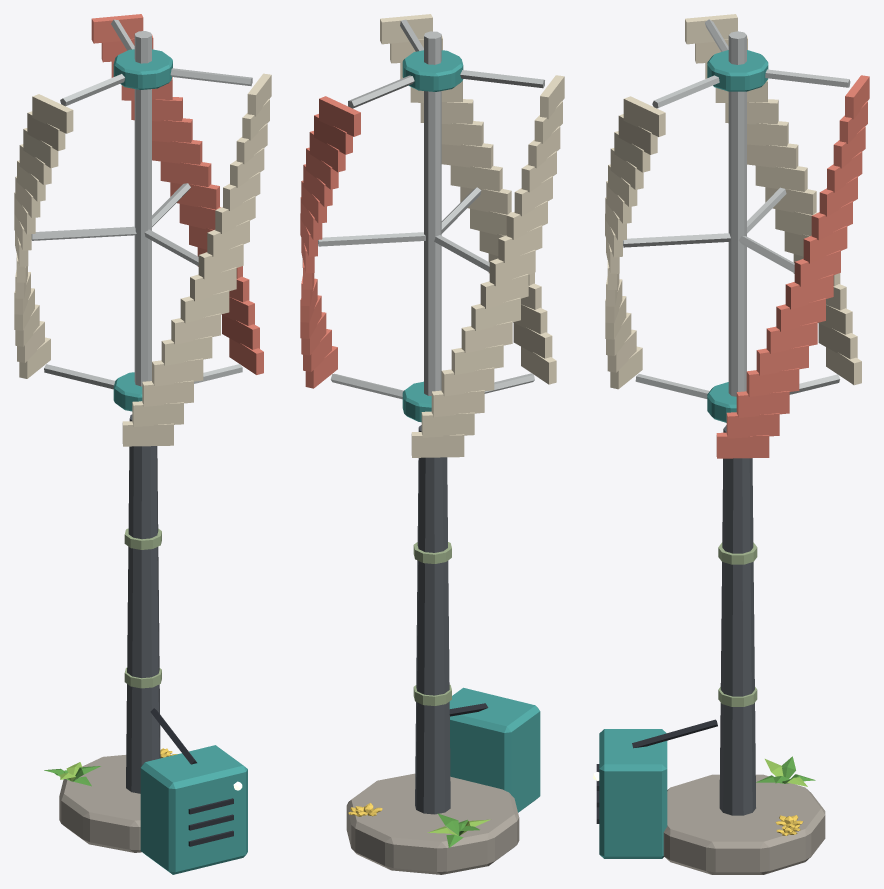
File: vertical_wind_turbine.glb
The picture shows the model from 3 angles, left to right: view 1: azimuth 30°, elevation 25°; view 2: azimuth 150°, elevation 25°; view 3: azimuth 270°, elevation 25°; orthographic projection. The views are drawn at different scales.
Parts seen in each view (by area): view 1: Vertical Wind Turbine; view 2: Vertical Wind Turbine; view 3: Vertical Wind Turbine.
Boxes of the visible parts, x1=… form: Vertical Wind Turbine: x1=14, y1=14, x2=271, y2=874; Vertical Wind Turbine: x1=300, y1=14, x2=564, y2=874; Vertical Wind Turbine: x1=593, y1=14, x2=869, y2=874.
Bounding box in the file's own units: 1.01 × 3.4 × 1.06.
2 materials, 1 textured.
